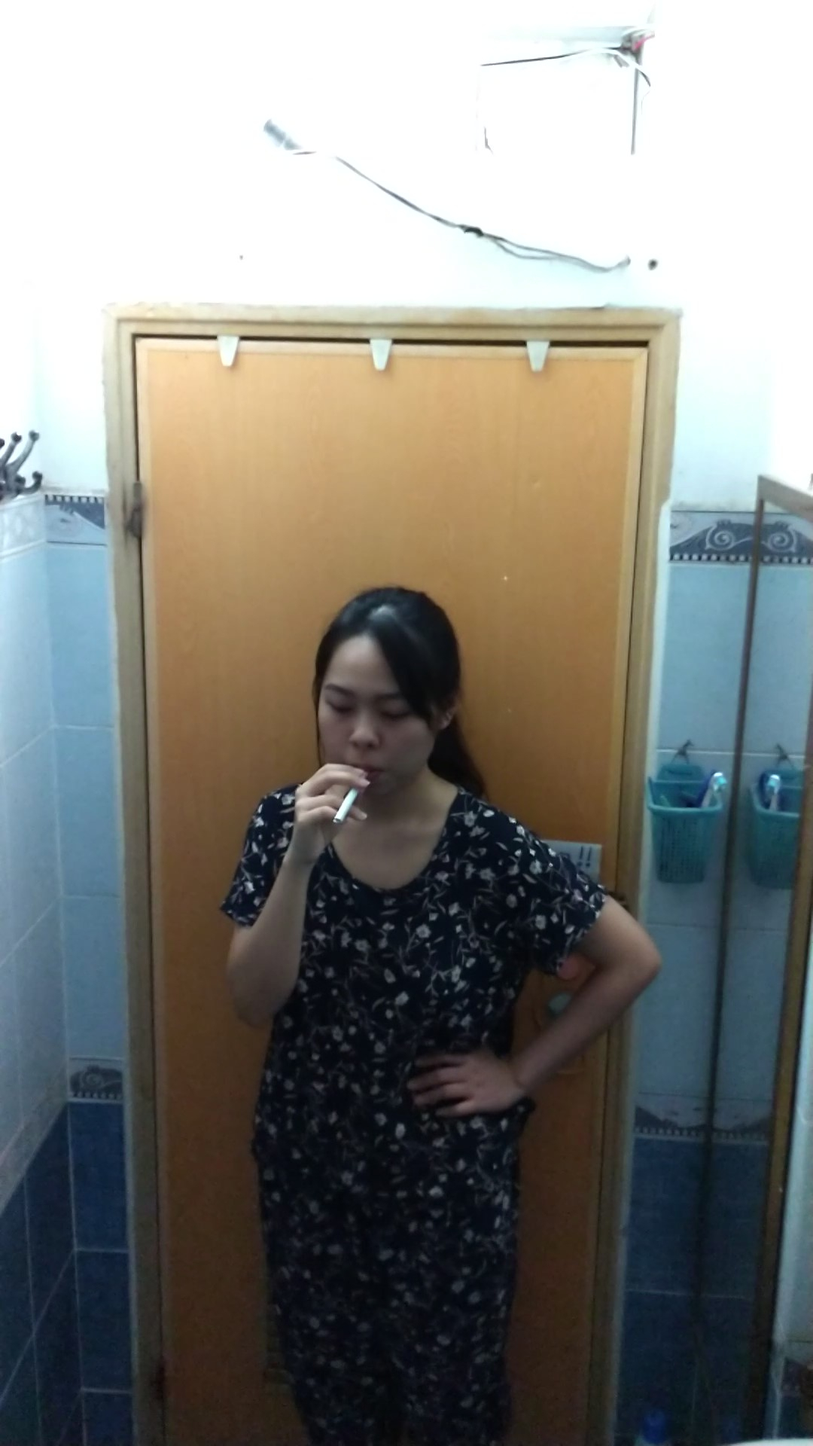cigarette: (330, 786, 362, 830)
person: (223, 584, 653, 1446)
